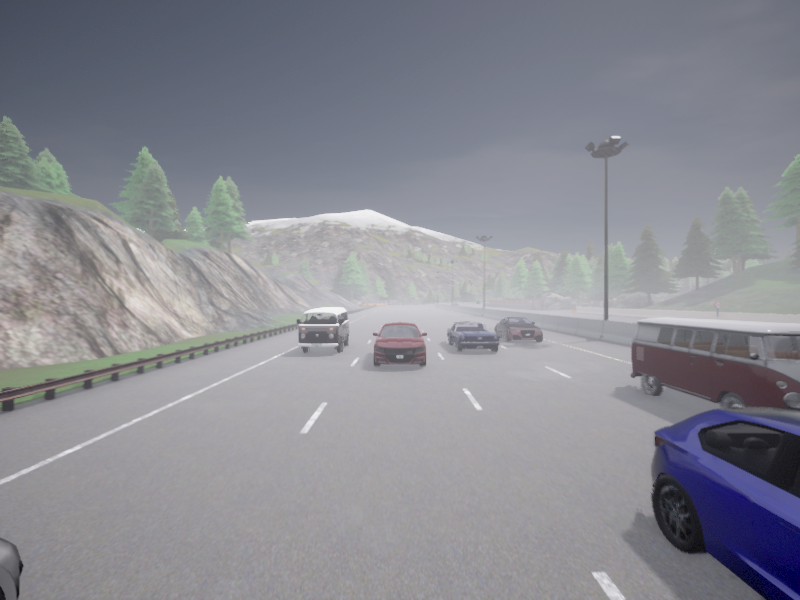vehicle: (651, 406, 799, 599), (631, 317, 799, 407), (296, 307, 349, 353), (373, 322, 426, 367), (447, 321, 499, 352), (0, 538, 22, 599), (494, 317, 542, 341), (477, 301, 481, 304), (451, 303, 457, 305)
